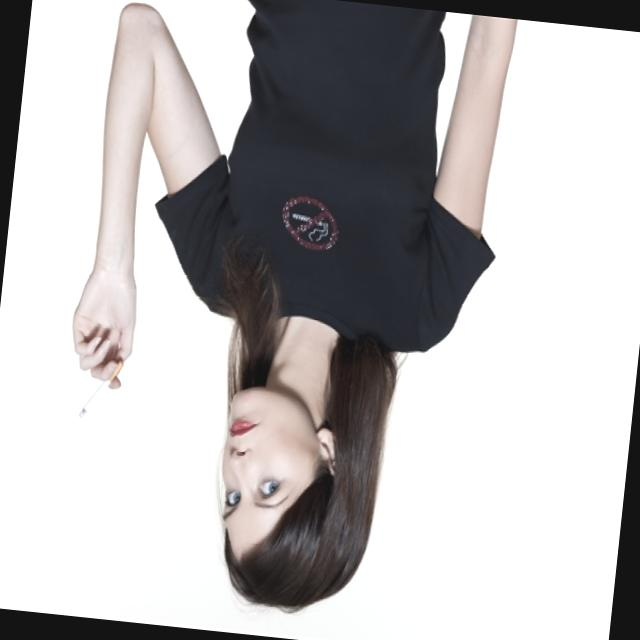cigarette: (75, 354, 126, 424)
